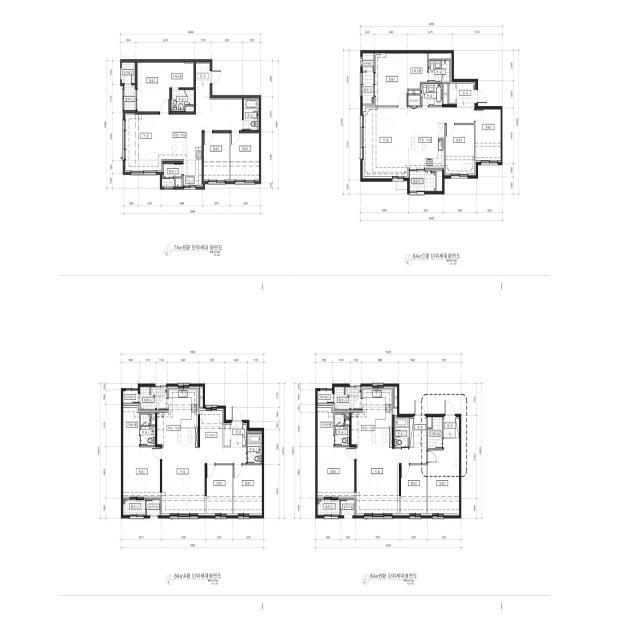space_balconi: (374, 35, 399, 202), (129, 195, 254, 215), (153, 88, 208, 111), (393, 221, 460, 238), (374, 495, 394, 522), (116, 88, 137, 108), (191, 410, 208, 433), (129, 514, 151, 531), (440, 541, 460, 558)
space_bedroom: (116, 143, 152, 194), (459, 27, 488, 89), (440, 170, 474, 221), (440, 489, 474, 540), (116, 463, 152, 511), (391, 355, 426, 397), (226, 484, 254, 533), (199, 484, 225, 533), (391, 400, 425, 436), (399, 35, 426, 77), (226, 164, 254, 198), (399, 80, 425, 116), (199, 164, 225, 198)
space_dressroom: (116, 410, 136, 462), (116, 108, 136, 143), (456, 134, 474, 170), (456, 454, 474, 488)
space_elevator_hall: (459, 347, 488, 409), (217, 407, 262, 434), (217, 87, 257, 114)
space_front: (210, 115, 233, 147), (438, 391, 458, 415), (438, 71, 458, 95), (218, 436, 233, 467)
space_kitchen: (374, 456, 426, 507), (154, 410, 190, 466), (154, 101, 188, 144), (393, 139, 426, 178)
space_living_room: (393, 380, 439, 558), (393, 60, 438, 221), (154, 465, 237, 533), (154, 144, 238, 198)
space_other: (471, 89, 488, 131), (471, 409, 488, 451), (391, 438, 426, 456), (189, 112, 208, 145), (191, 434, 208, 465), (399, 118, 425, 136), (459, 409, 469, 451), (459, 90, 469, 131), (234, 110, 255, 126), (234, 430, 255, 446), (439, 128, 455, 147), (439, 448, 455, 467), (438, 380, 457, 392), (138, 408, 151, 425), (460, 543, 474, 558), (438, 60, 457, 71), (139, 88, 151, 105), (210, 437, 217, 465), (461, 223, 474, 238), (209, 407, 215, 437), (209, 88, 215, 117), (257, 369, 261, 406), (374, 203, 379, 219), (374, 523, 379, 539), (148, 430, 153, 440), (148, 110, 153, 120), (235, 451, 238, 465), (235, 131, 238, 145)
space_outdoor_room: (116, 515, 128, 531), (116, 195, 128, 211), (380, 522, 391, 539), (380, 203, 391, 219)
space_staircase: (210, 369, 255, 405), (210, 49, 254, 84)
space_toilet: (439, 416, 455, 447), (439, 96, 455, 127), (440, 136, 455, 168), (239, 452, 254, 483), (137, 110, 152, 141), (137, 430, 152, 461), (239, 133, 254, 163), (440, 456, 454, 488)
